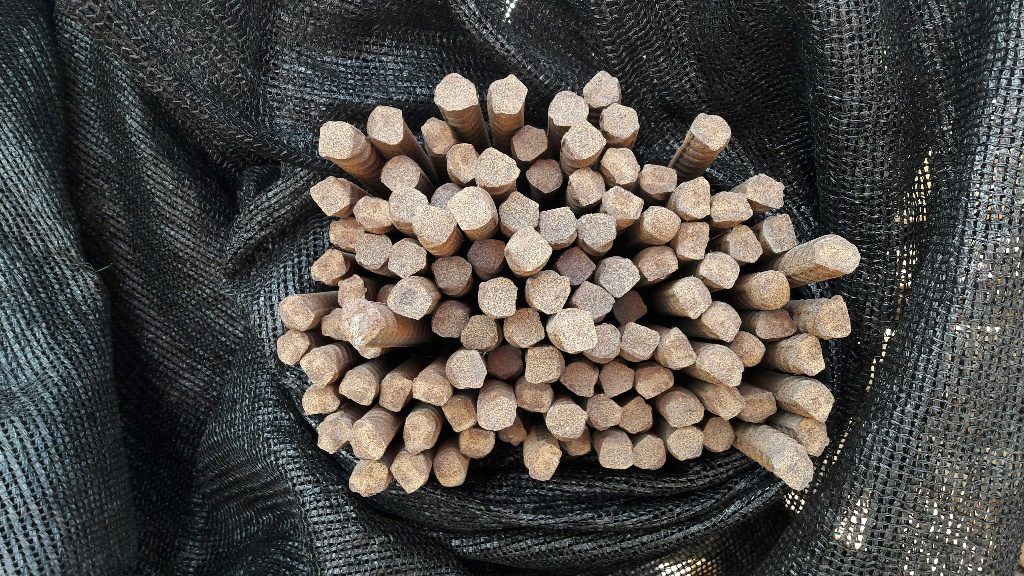dipstick: (548, 306, 598, 353), (505, 229, 551, 274), (771, 443, 814, 491), (448, 187, 495, 228), (793, 377, 834, 423), (700, 346, 742, 388), (814, 235, 859, 274), (341, 301, 382, 343), (527, 271, 569, 311), (596, 257, 639, 296), (477, 278, 518, 318), (563, 122, 606, 160), (691, 113, 731, 153), (477, 388, 516, 429), (436, 73, 478, 111), (746, 270, 788, 308), (662, 326, 696, 372), (390, 279, 429, 319), (489, 75, 527, 116), (298, 350, 340, 387), (479, 147, 518, 186), (367, 106, 405, 146), (498, 192, 538, 230), (576, 213, 614, 253), (549, 90, 590, 127), (703, 301, 739, 343), (640, 204, 678, 243), (640, 245, 679, 283), (446, 351, 485, 389), (505, 308, 544, 346), (622, 322, 660, 361), (537, 207, 577, 244), (413, 207, 454, 243), (790, 335, 825, 377), (818, 297, 852, 340), (753, 308, 797, 341), (556, 247, 595, 284), (523, 444, 560, 483), (635, 365, 674, 402), (384, 189, 424, 225), (310, 179, 350, 215), (346, 462, 391, 494), (469, 236, 504, 277), (676, 177, 711, 218), (350, 421, 385, 462), (663, 392, 705, 426), (568, 168, 605, 206), (380, 155, 420, 190), (674, 221, 709, 261), (431, 257, 472, 291), (744, 175, 786, 208), (606, 186, 642, 224), (412, 370, 450, 406), (703, 382, 741, 418), (741, 391, 779, 427), (728, 225, 763, 264), (320, 121, 354, 161), (393, 454, 427, 494), (677, 276, 710, 317), (603, 147, 639, 184), (354, 232, 390, 269), (389, 240, 426, 276), (761, 214, 797, 251), (701, 253, 738, 289), (574, 280, 611, 316), (598, 361, 634, 398), (668, 426, 705, 462), (403, 413, 437, 452), (420, 116, 452, 157), (508, 125, 549, 157), (710, 191, 752, 222), (585, 70, 620, 107), (463, 314, 498, 351), (353, 196, 391, 230), (278, 297, 316, 331), (439, 399, 479, 431), (433, 301, 465, 341), (798, 416, 830, 456), (548, 402, 584, 437), (585, 394, 622, 428), (621, 395, 655, 432), (634, 435, 669, 470), (732, 333, 767, 368), (378, 375, 412, 411), (318, 417, 351, 454), (525, 350, 562, 383), (602, 104, 638, 137), (525, 158, 561, 191), (639, 164, 676, 196), (444, 142, 476, 179), (516, 381, 553, 413), (704, 416, 736, 453), (312, 249, 346, 283), (488, 347, 524, 379), (590, 323, 619, 362), (434, 451, 465, 487), (302, 385, 340, 414), (340, 372, 374, 404), (563, 362, 595, 396), (459, 428, 494, 459), (600, 439, 634, 470), (330, 218, 360, 253), (275, 332, 307, 364), (614, 291, 646, 323), (319, 313, 350, 341), (335, 277, 364, 305), (563, 428, 591, 457), (429, 186, 463, 209), (498, 418, 526, 445), (374, 283, 394, 305)
